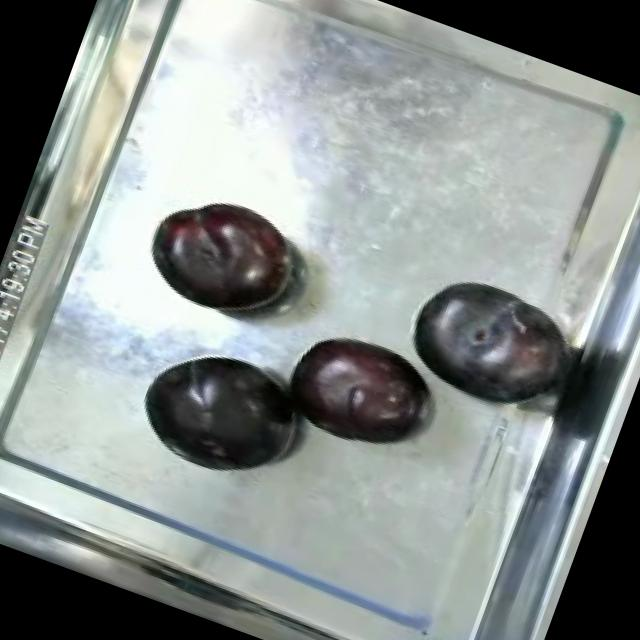Fruit: (387, 254, 589, 434), (120, 327, 318, 498), (130, 176, 314, 336), (266, 312, 444, 470)
